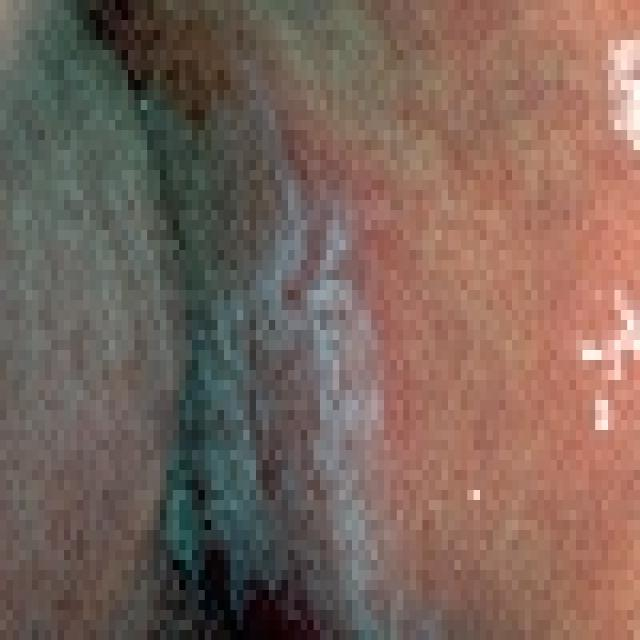lupus: (62, 50, 444, 640)
